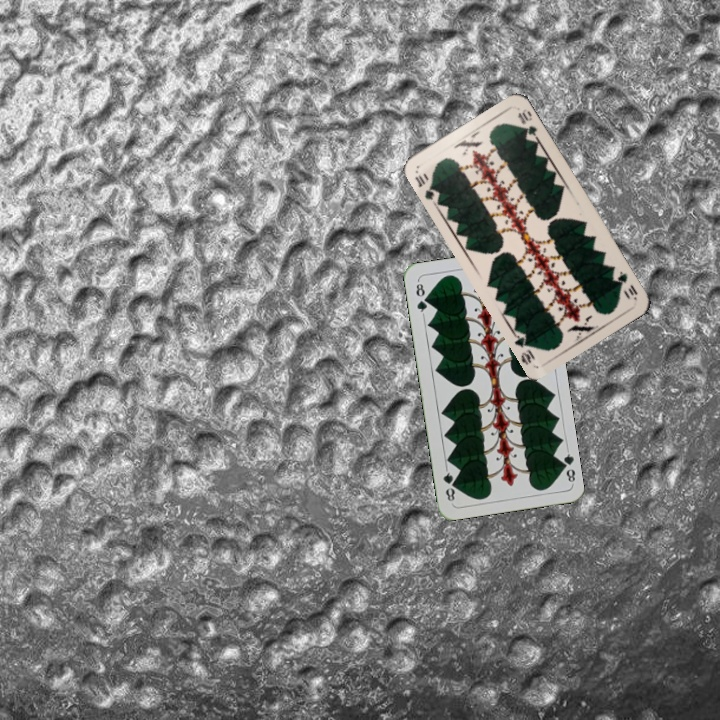G10: (613, 267, 640, 303), (411, 170, 440, 203)
G8: (556, 446, 578, 486), (412, 277, 430, 318)
